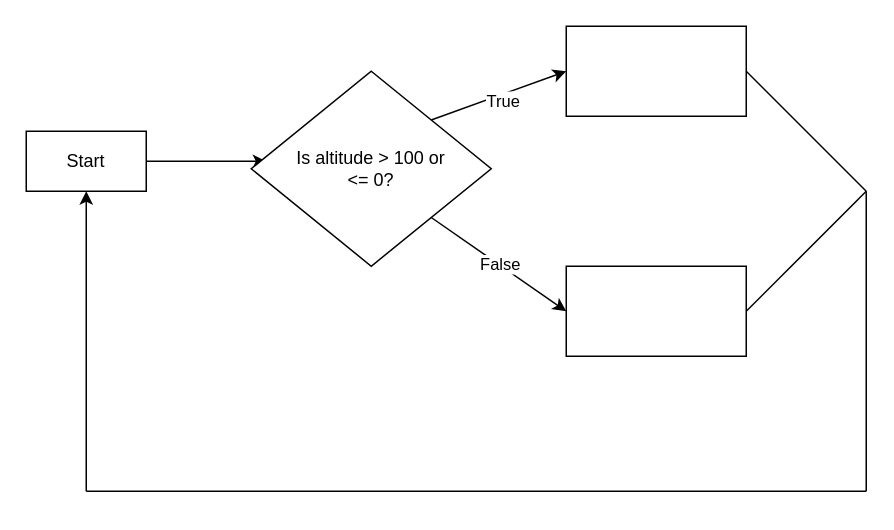
Some shapes in this 894 by 530 pixel diagram are drawn without their labels. The centre of each missing label's shape, as x and y in pixels:
"Thruster is set to 0 (turned off)" goes at (655,70).
"Thrusters is set to 1 (Turned on)" goes at (655,310).
